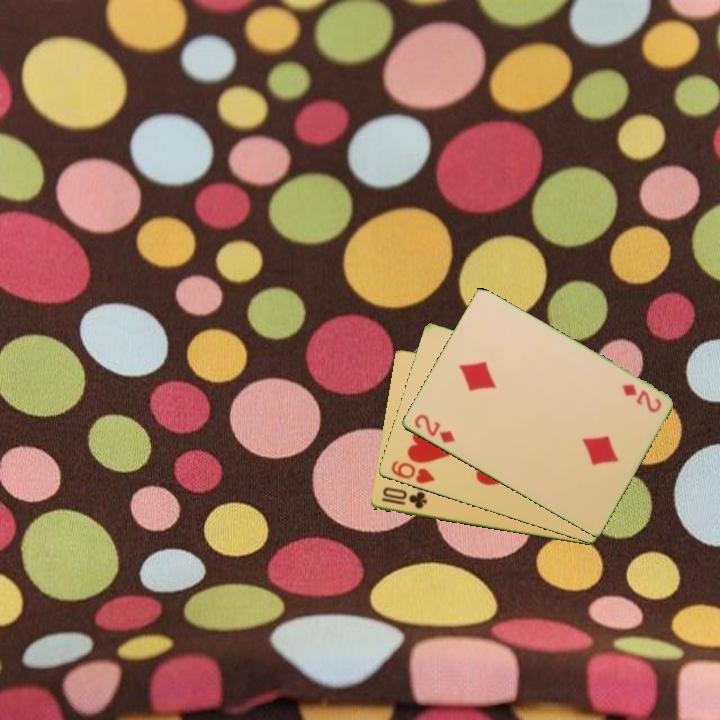10c: (378, 484, 430, 512)
2d: (410, 411, 458, 446), (618, 380, 664, 415)
6h: (387, 457, 437, 487)
